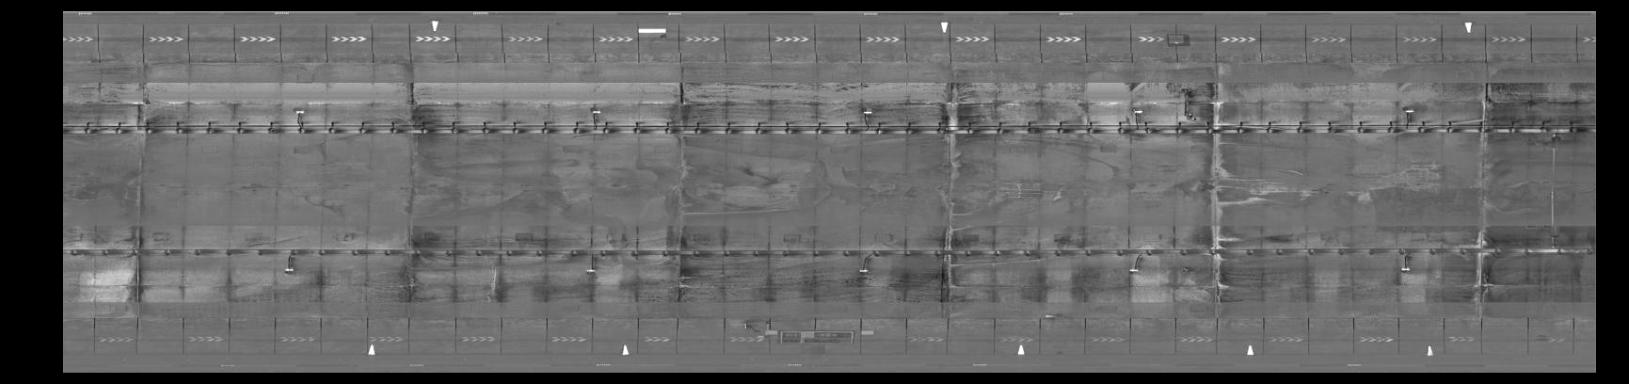light: (1390, 262, 1416, 278), (1126, 107, 1149, 118), (1123, 265, 1145, 276), (281, 263, 298, 276), (1399, 105, 1417, 117), (853, 266, 874, 276), (582, 265, 600, 276), (858, 107, 875, 118), (290, 108, 310, 117), (588, 107, 606, 116)
